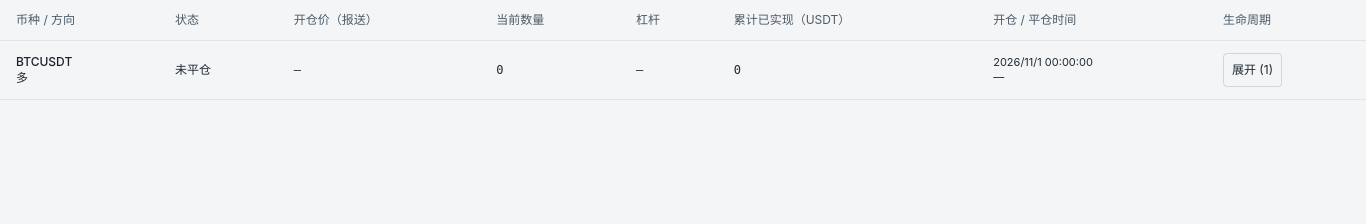
Test: distinguishes reported floating PnL from cumulative realized PnL
What coordinates should you click on to do the following:
click the button with aria-label "展开 BTCUSDT 生命周期"
I would click on:
 (1253, 70)
Its box is [1223,53,1282,87].
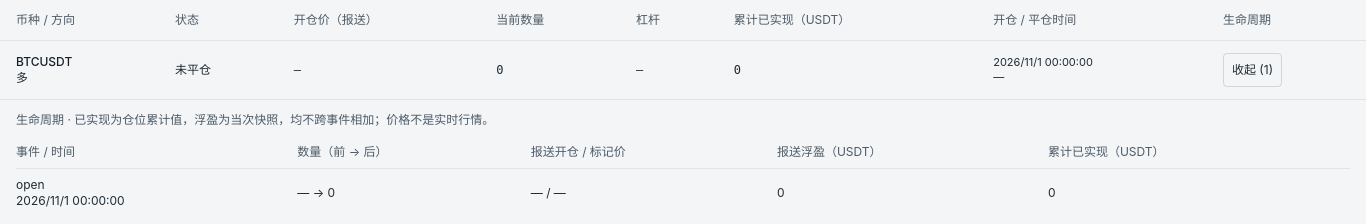
Expected: the column heading "报送浮盈（USDT）" is shown, [777,136,1048,168]
Expected: the text "生命周期 · 已实现为仓位累计值，浮盈为当次快照，均不跨事件相加；价格不是实时行情。" is shown, [16,112,494,127]
